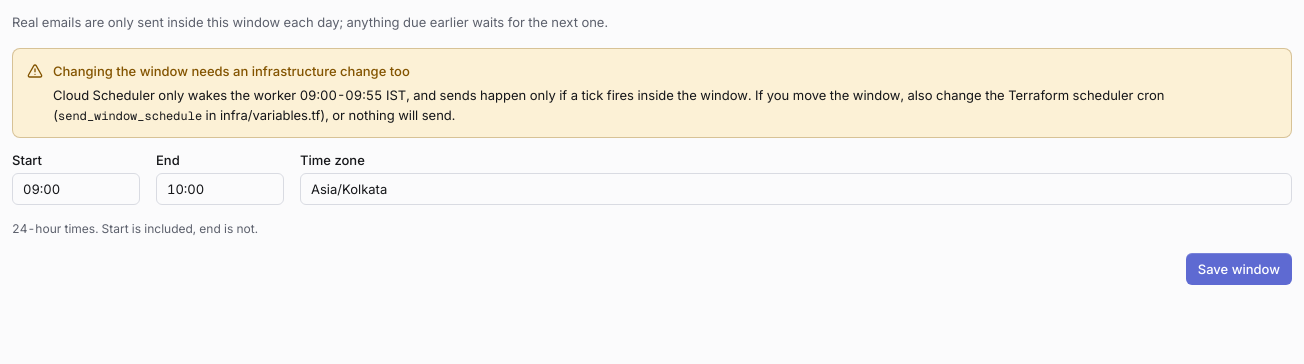
Scenario: SendWindowForm › shows the server's refusal
Expected: the field labelled "Start" is shown, [12,173,140,205]
Click the button "Save window". click: x=1239, y=269
box: [1186,253,1292,285]
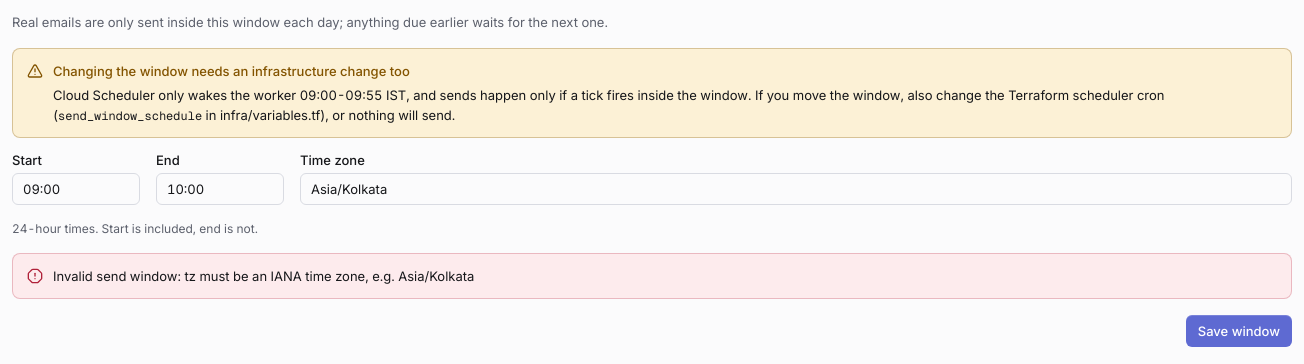
Expected: the message shows "IANA time zone", [53,268,474,284]
